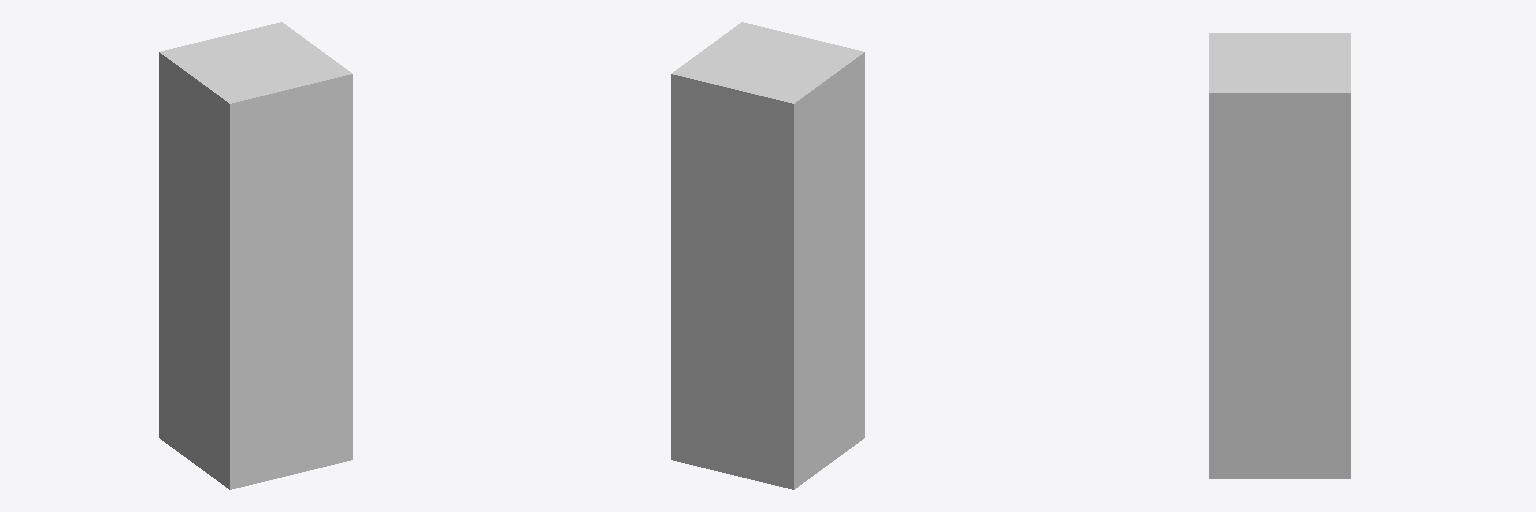
3 renders of one model, left to right at view 1: azimuth 30°, elevation 25°; view 2: azimuth 150°, elevation 25°; view 3: azimuth 270°, elevation 25°, orthographic.
Visible parts, largest first — view 1: object 1; view 2: object 1; view 3: object 1.
Part boxes in pixels (left/top/right/bottom): object 1: left=159, top=22, right=352, bottom=489; object 1: left=671, top=22, right=864, bottom=489; object 1: left=1209, top=33, right=1350, bottom=478.
Size of the model in its own units: 0.1 by 0.3 by 0.1.
1 materials, 1 textured.